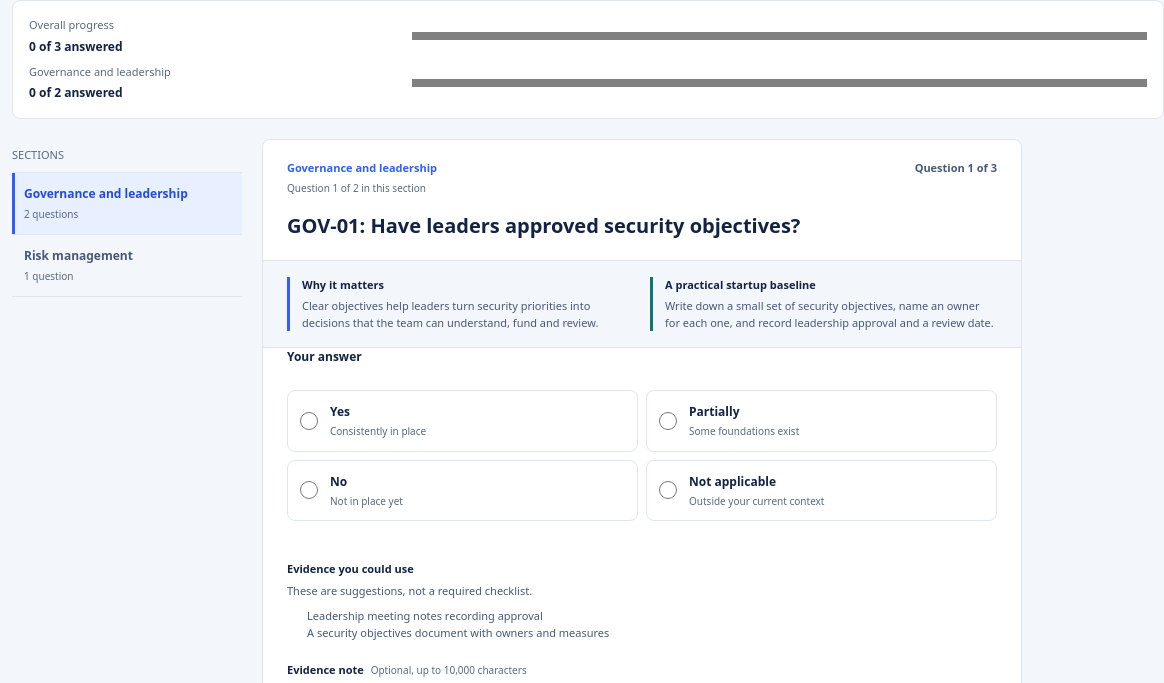
Test: AssessmentResponseList guided flow › explains the consequence of choosing Partially
Click the radio button labelled "Partially". click: (668, 421)
box: [659, 412, 677, 430]
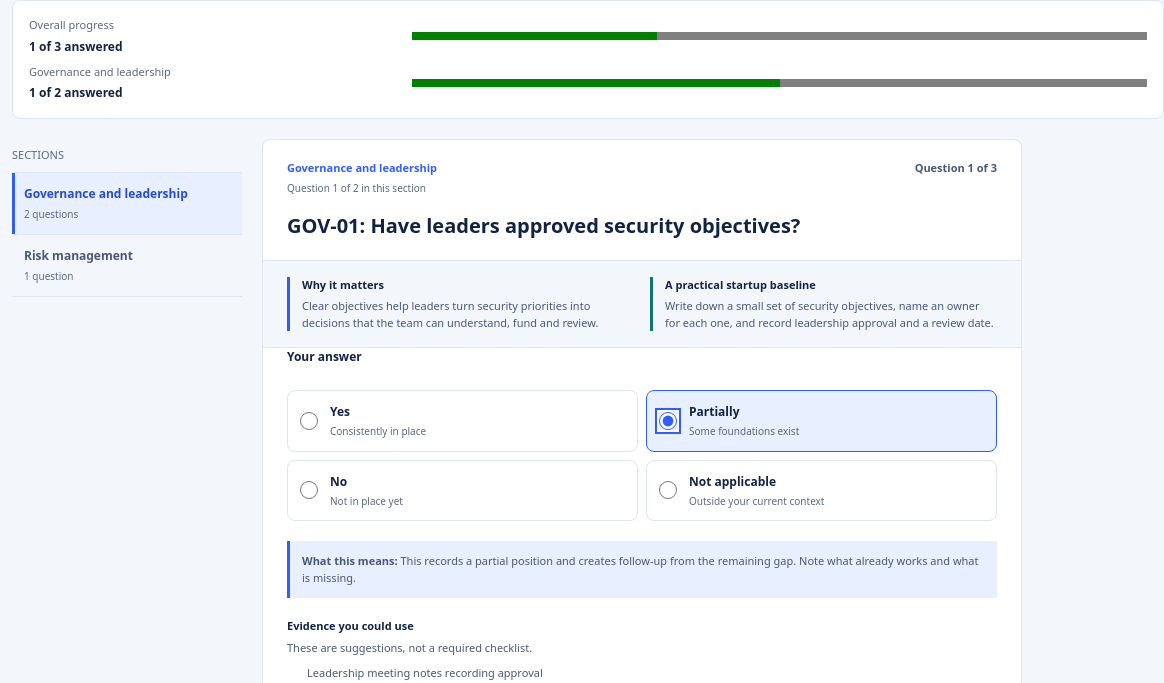
Check: the heading "GOV-01: Have leaders approved security objectives?" is shown, box [287, 212, 800, 238]
Check: the message named "Answer consequence" shows "follow-up", box [302, 553, 978, 585]
